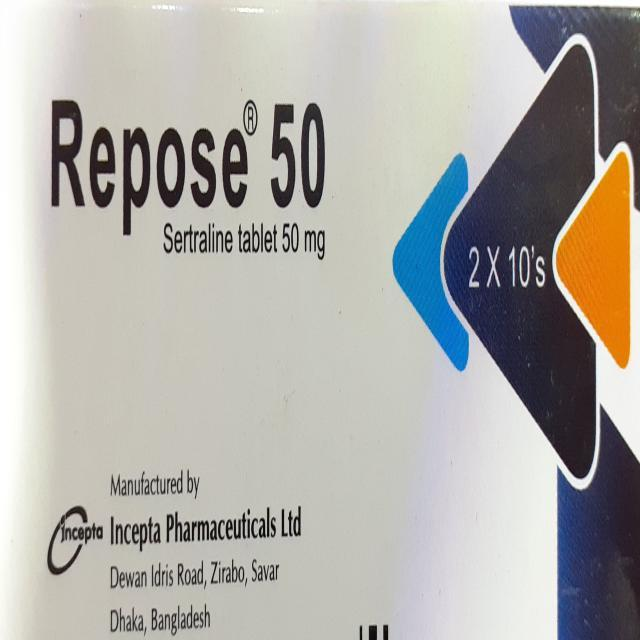drug-name: (50, 93, 331, 237)
